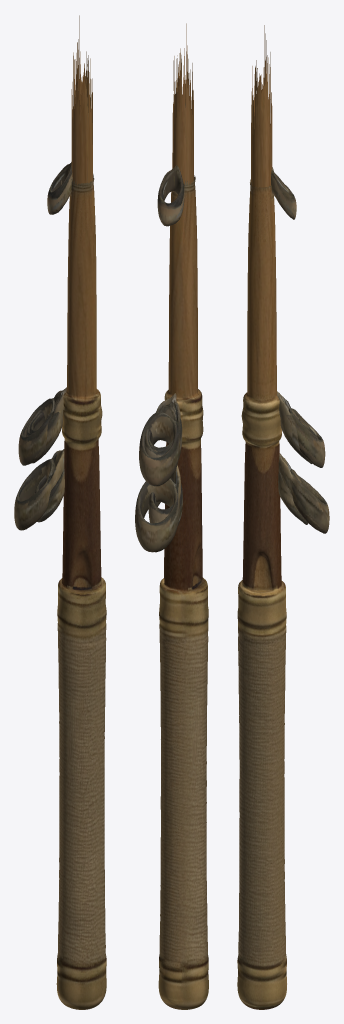
The model's file is float_ostoja.glb.
The picture shows the model from 3 angles, left to right: view 1: azimuth 90°, elevation 25°; view 2: azimuth 150°, elevation 25°; view 3: azimuth 270°, elevation 25°; orthographic projection.
Parts seen in each view (by area): view 1: Handle, Seg0, Seg2, Seg9, Seg6, Seg8, Seg1, Seg4, Seg3; view 2: Handle, Seg0, Seg2, Seg9, Seg4, Seg8, Seg1, Seg6, Seg3; view 3: Handle, Seg0, Seg2, Seg9, Seg1, Seg4, Seg8, Seg6.
Part boxes in pixels (<box>): Handle: <box>56,174,106,1009</box>; Seg0: <box>14,42,92,530</box>; Seg2: <box>18,58,90,465</box>; Seg9: <box>47,162,72,214</box>; Seg6: <box>29,43,87,450</box>; Seg8: <box>34,76,86,522</box>; Seg1: <box>72,51,91,153</box>; Seg4: <box>25,15,88,463</box>; Seg3: <box>74,51,87,121</box>; Handle: <box>158,175,208,1009</box>; Seg0: <box>135,55,193,552</box>; Seg2: <box>139,48,191,486</box>; Seg9: <box>157,106,185,226</box>; Seg4: <box>145,23,188,457</box>; Seg8: <box>148,61,187,525</box>; Seg1: <box>173,53,192,154</box>; Seg6: <box>148,56,188,458</box>; Seg3: <box>177,53,190,111</box>; Handle: <box>237,179,286,1009</box>; Seg0: <box>251,57,329,533</box>; Seg2: <box>253,60,325,467</box>; Seg9: <box>271,167,296,219</box>; Seg1: <box>252,52,271,155</box>; Seg4: <box>258,25,316,462</box>; Seg8: <box>258,84,308,524</box>; Seg6: <box>260,40,313,463</box>.
Size of the model in its own units: 0.0331 by 0.697 by 0.0589.
1 material, 1 textured.
